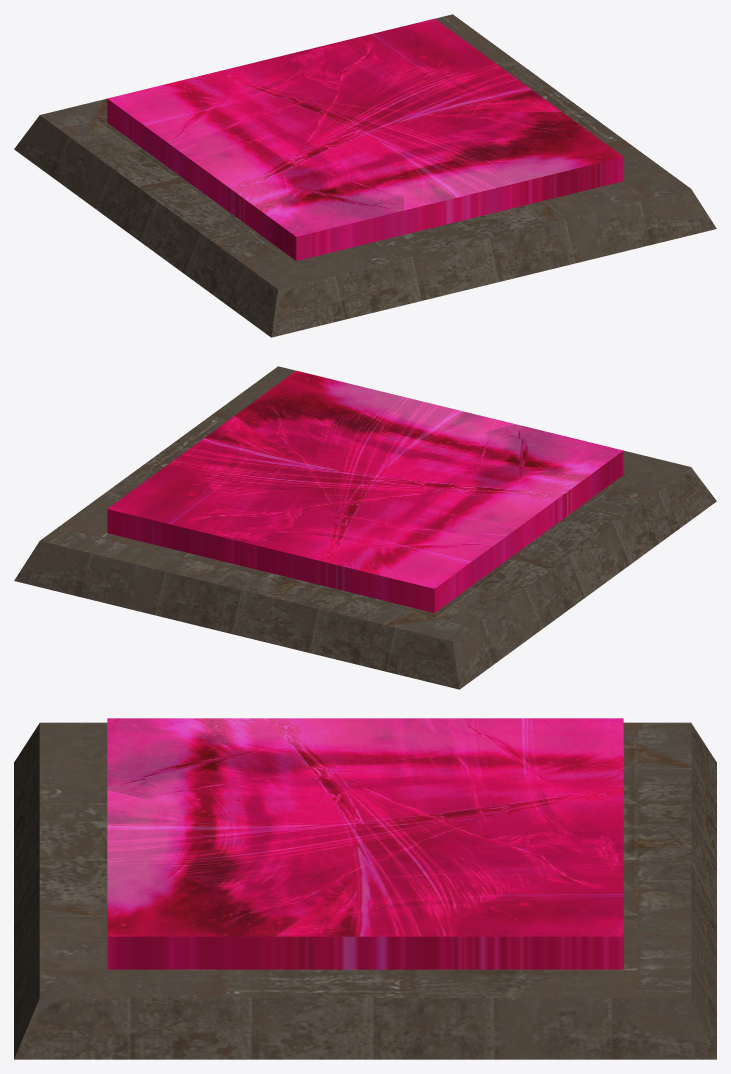
Rendered from default_button.glb.
3 views of the same model, one above another, from view 1: azimuth 30°, elevation 25°; view 2: azimuth 150°, elevation 25°; view 3: azimuth 270°, elevation 25° (orthographic). The views are drawn at different scales.
Visible parts, largest first — view 1: button_off-col; view 2: button_off-col; view 3: button_off-col.
Part boxes in pixels (x1,y1,x2,y2): button_off-col: (14,14,716,337); button_off-col: (14,366,716,689); button_off-col: (14,718,716,1059).
Bounding box in the file's own units: 1.9 × 0.25 × 1.9.
1 material, 1 textured.
